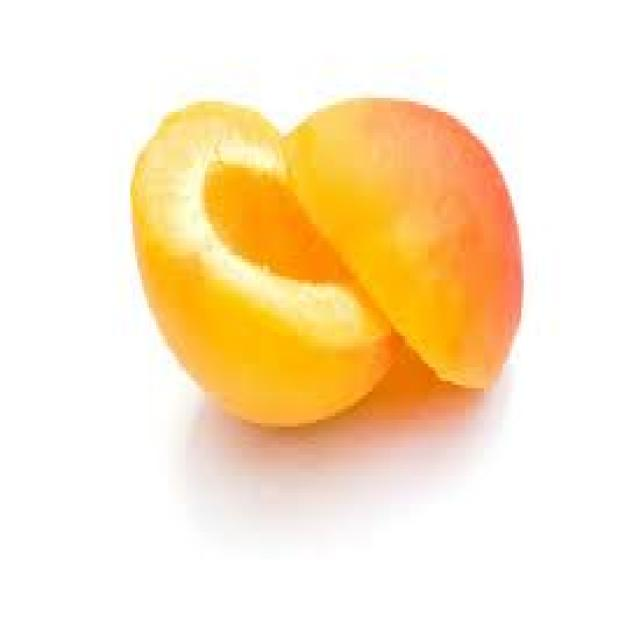apricot: (93, 52, 528, 462)
